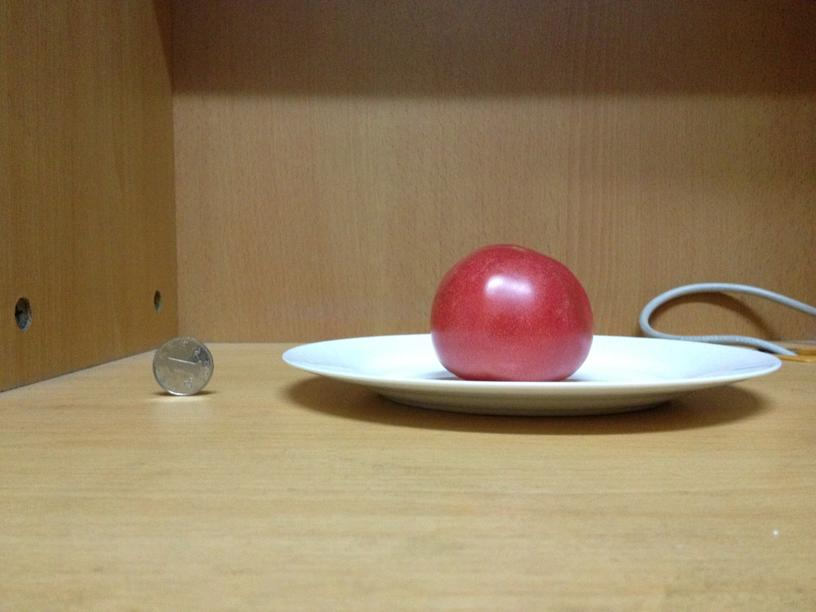coin: (152, 337, 215, 395)
tomato: (430, 247, 592, 381)
